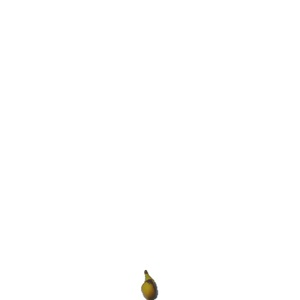banana: (137, 264, 160, 299)
